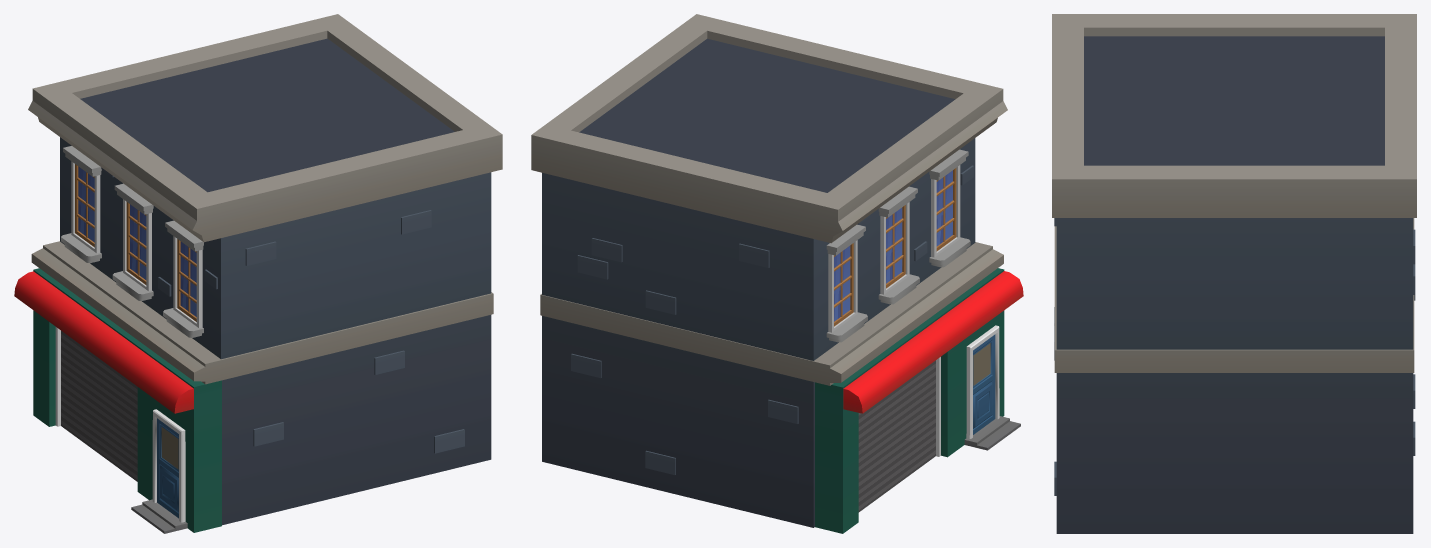
Rendered from Building_19_3_J.fbx.
3 views of the same model, side by side, from view 1: azimuth 30°, elevation 25°; view 2: azimuth 150°, elevation 25°; view 3: azimuth 270°, elevation 25° (orthographic). The views are drawn at different scales.
Parts seen in each view (by area): view 1: Building_19_3_J; view 2: Building_19_3_J; view 3: Building_19_3_J.
Part boxes in pixels (x1,y1,x2,y2): Building_19_3_J: [14, 14, 502, 533]; Building_19_3_J: [531, 14, 1023, 533]; Building_19_3_J: [1052, 14, 1416, 533].
Bounding box in the file's own units: 774 × 726 × 667.
